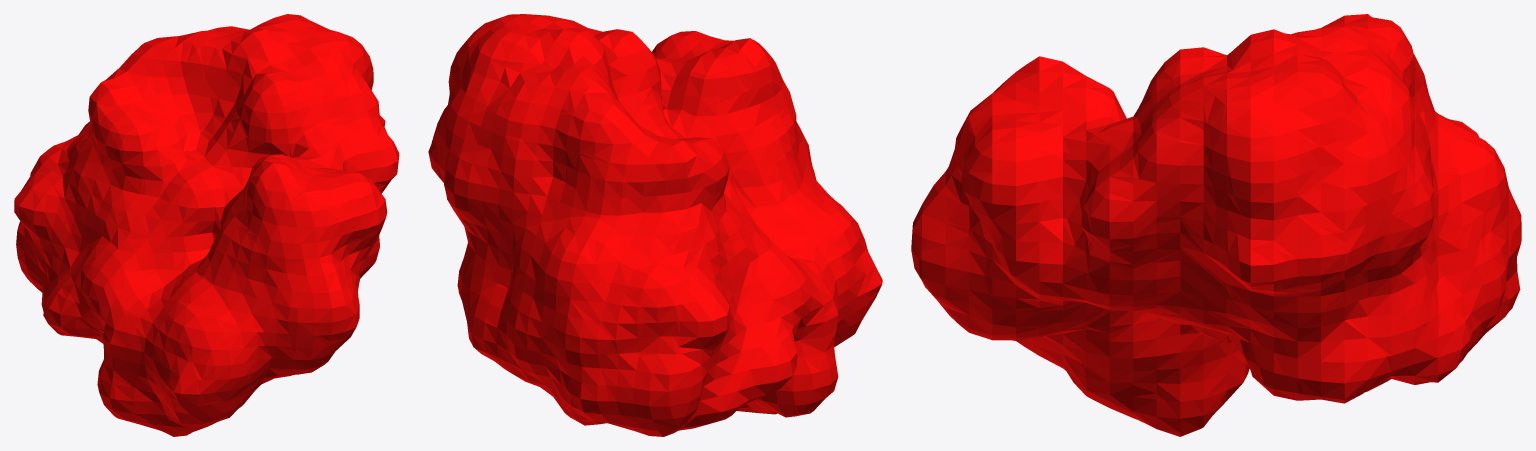
File: proB_coarse.dae
3 renders of one model, left to right at view 1: azimuth 30°, elevation 25°; view 2: azimuth 150°, elevation 25°; view 3: azimuth 270°, elevation 25°, orthographic. The views are drawn at different scales.
Visible parts, largest first — view 1: proB; view 2: proB; view 3: proB.
Boxes of the visible parts, x1,y1,x2,y2 form: proB: (14,14,399,436); proB: (428,14,882,436); proB: (911,14,1521,436).
Bounding box in the file's own units: 68.01 × 68.62 × 81.81.
